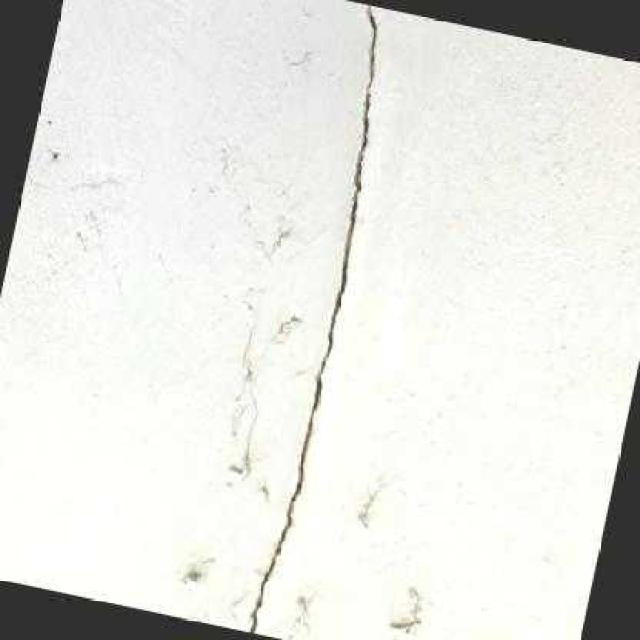D00: (245, 4, 377, 633)
